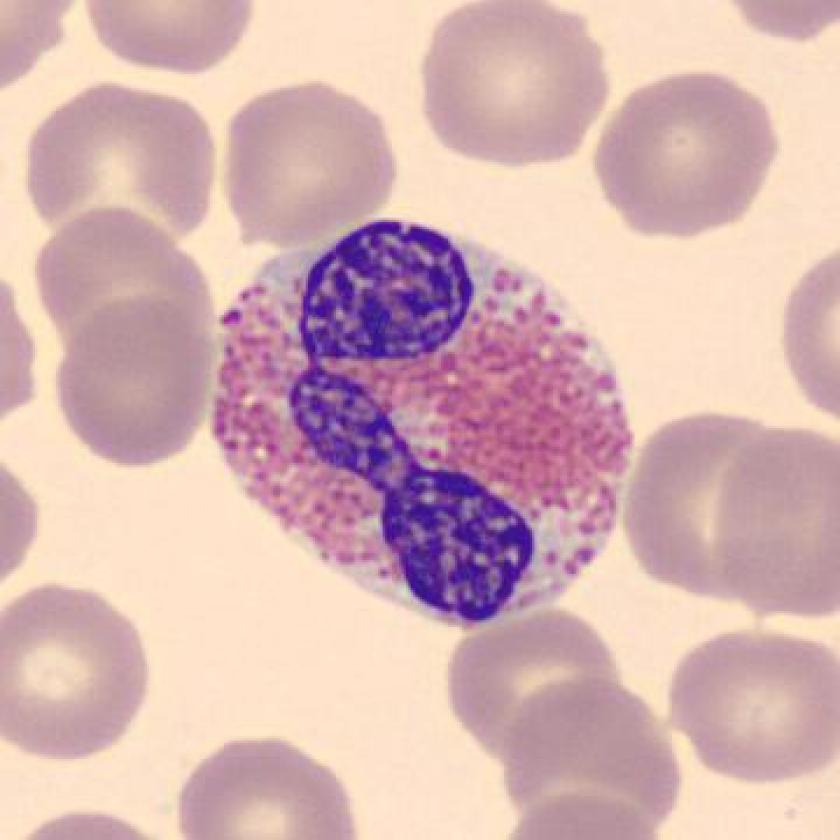eosinophil: (190, 202, 657, 649)
